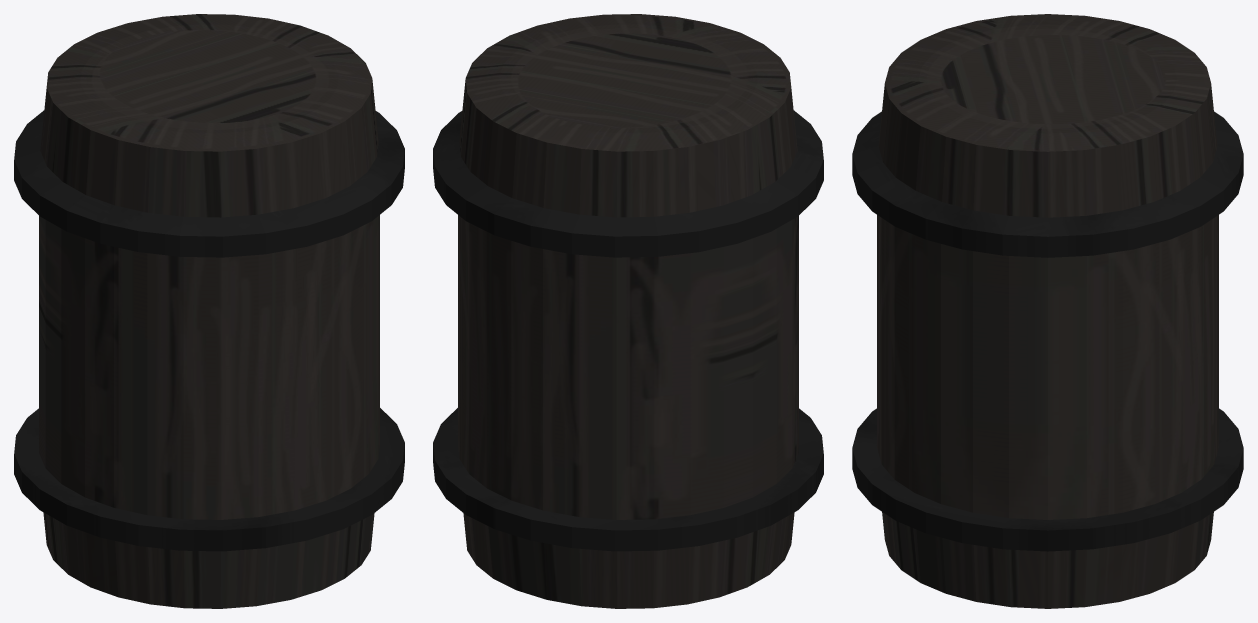
The model's file is barrel.fbx.
3 renders of one model, left to right at view 1: azimuth 30°, elevation 25°; view 2: azimuth 150°, elevation 25°; view 3: azimuth 270°, elevation 25°, orthographic.
Parts seen in each view (by area): view 1: Circle001; view 2: Circle001; view 3: Circle001.
Part boxes in pixels (x1,y1,x2,y2): Circle001: (14, 14, 404, 608); Circle001: (433, 14, 823, 608); Circle001: (852, 14, 1243, 608).
Bounding box in the file's own units: 78.79 × 103 × 78.79.
1 material, 1 textured.
